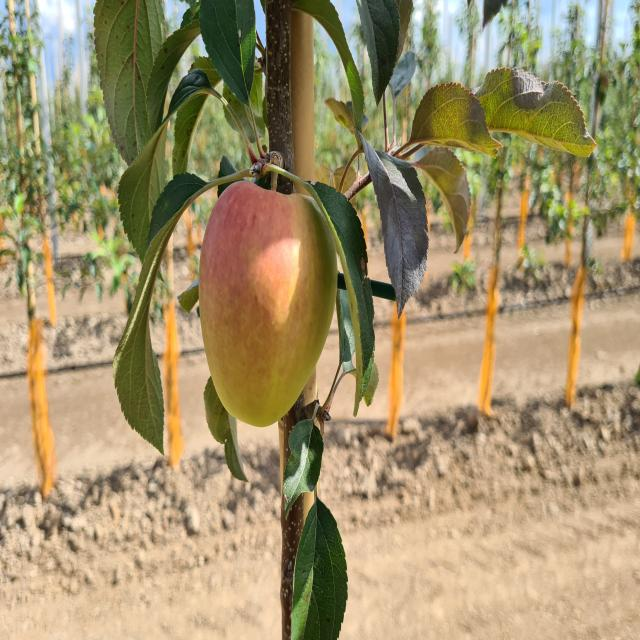Apple: (199, 180, 338, 427)
